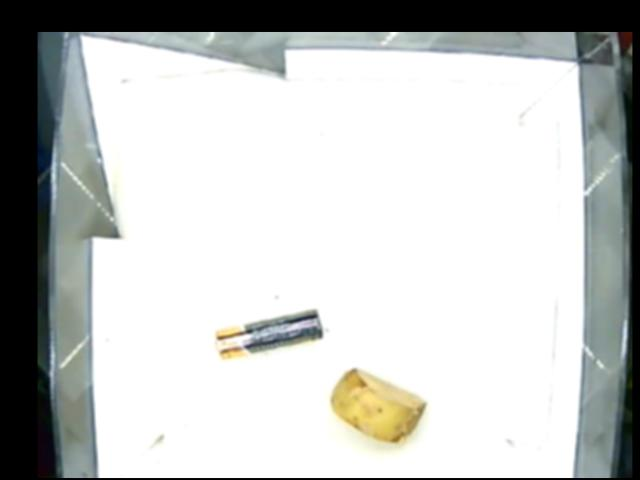Battery: (210, 309, 323, 360)
Potato: (328, 368, 427, 444)
